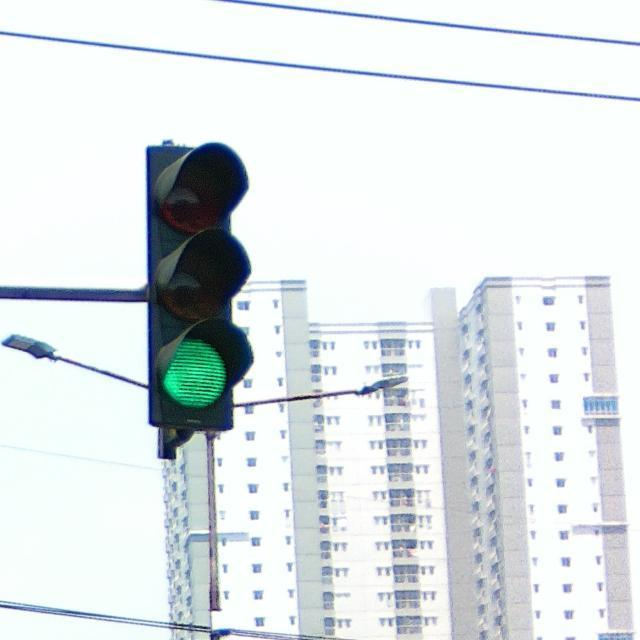traffic light: (146, 143, 254, 435)
